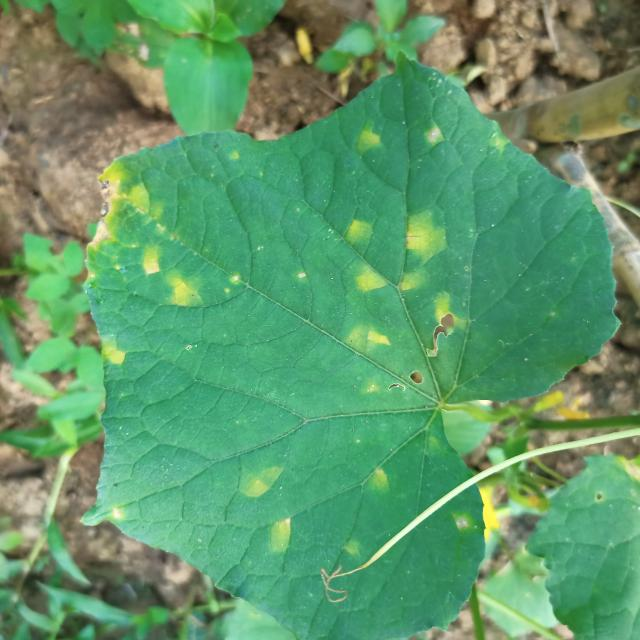disease_cucumber: (334, 196, 460, 403), (85, 158, 209, 310), (239, 460, 296, 562), (352, 458, 403, 505), (344, 118, 384, 158), (98, 328, 128, 369)
